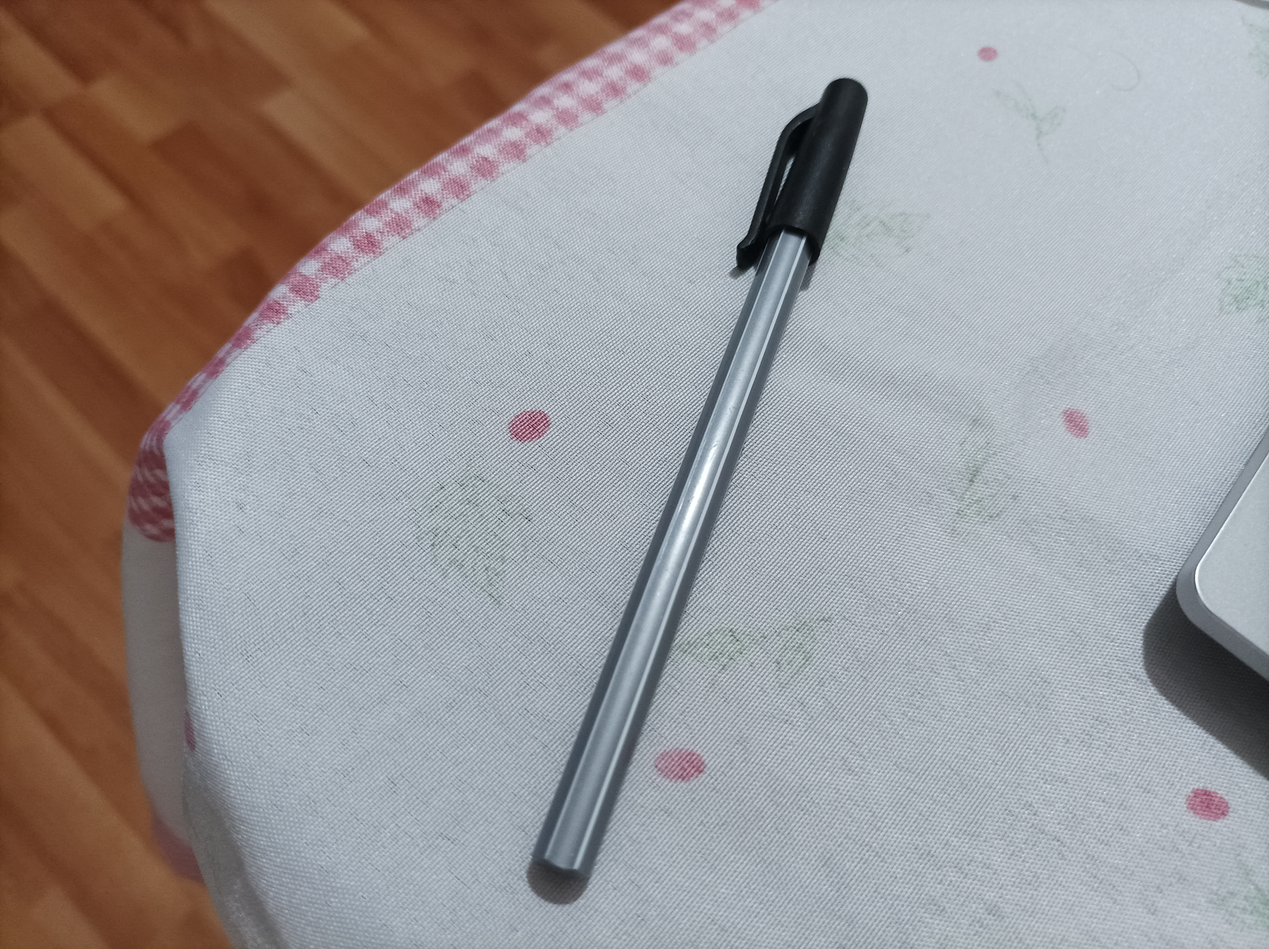plastic: (534, 73, 873, 888)
